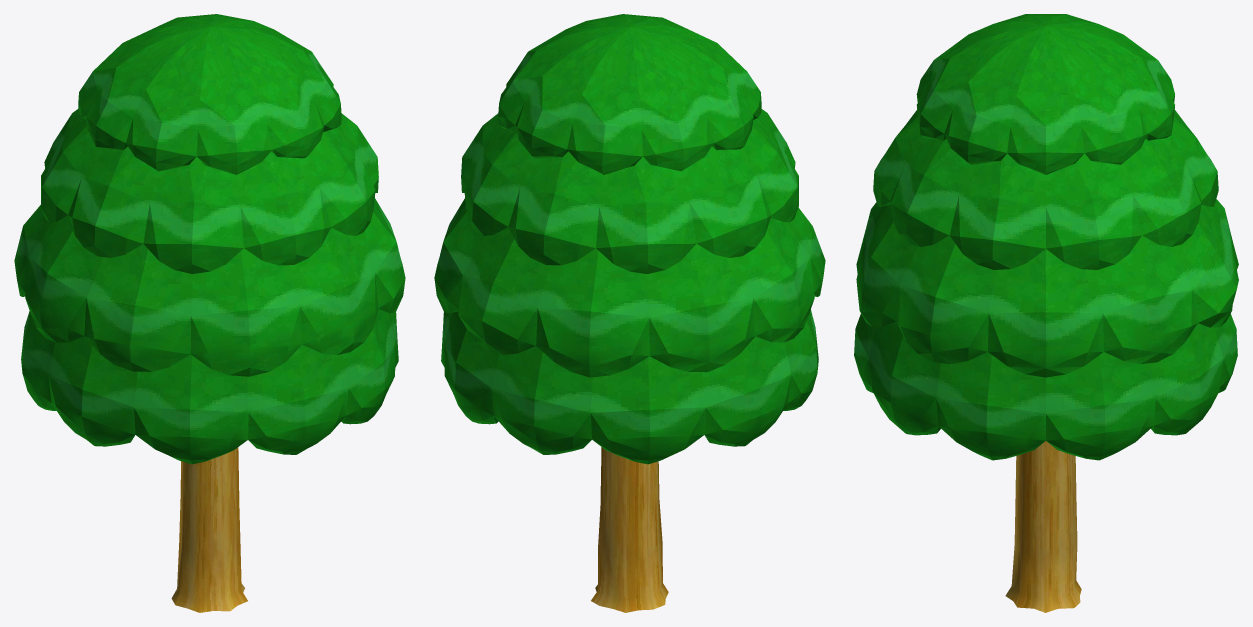
File: tree.glb
The picture shows the model from 3 angles, left to right: view 1: azimuth 30°, elevation 25°; view 2: azimuth 150°, elevation 25°; view 3: azimuth 270°, elevation 25°; orthographic projection.
Visible parts, largest first — view 1: Object_3, Object_2; view 2: Object_3, Object_2; view 3: Object_3, Object_2.
Boxes of the visible parts, x1,y1,x2,y2 form: Object_3: (14, 14, 405, 464); Object_2: (171, 447, 247, 612); Object_3: (434, 14, 825, 464); Object_2: (591, 447, 668, 612); Object_3: (854, 14, 1238, 460); Object_2: (1005, 441, 1081, 612).
Size of the model in its own units: 25.09 by 40.11 by 24.53.
Materials: 2 (2 with a texture image).
